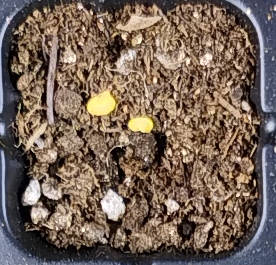pepper seed: (50, 48, 205, 182), (27, 31, 144, 147)
